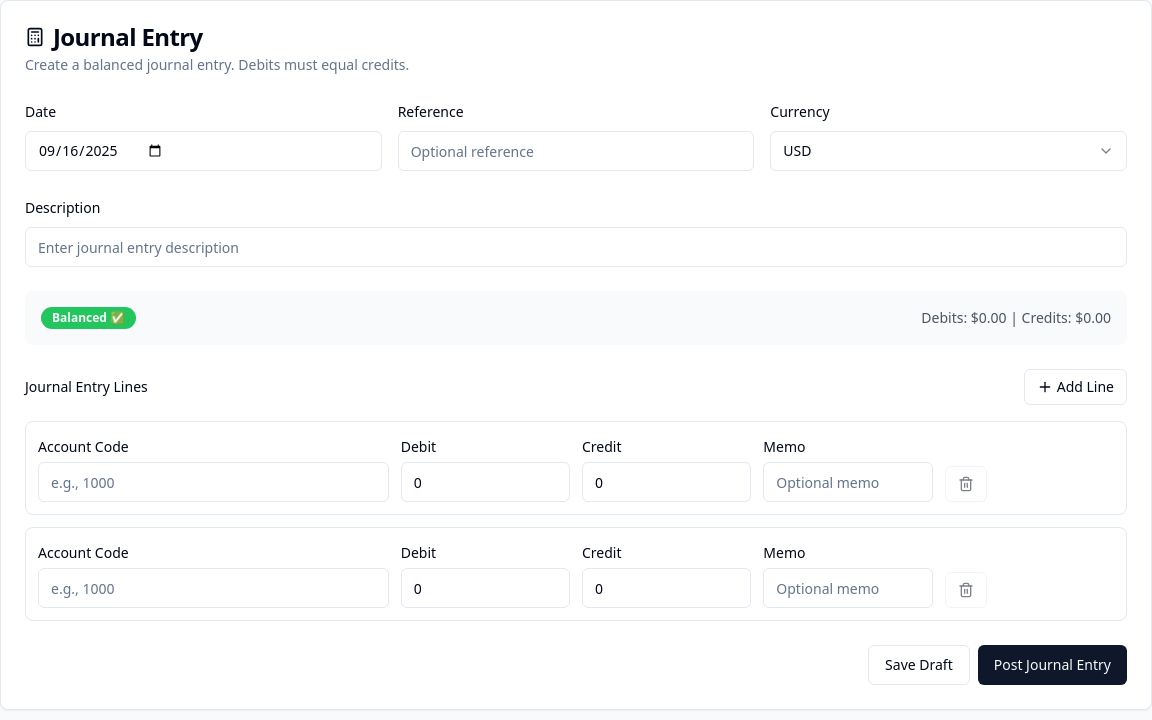
JEForm › validates required fields
This screenshot has width=1152, height=720.
# Clear the date field and try to submit
Clear the date field labelled "Date" at (203, 151), box [25, 131, 382, 171]
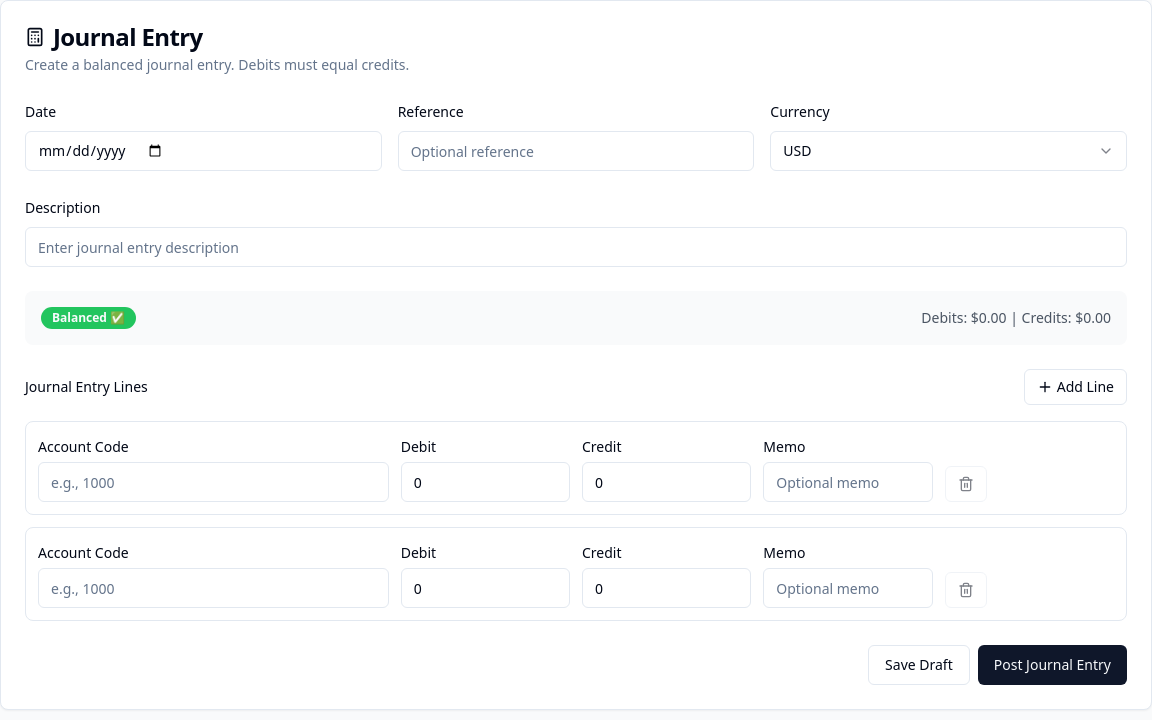
# Try to submit without filling required fields
Click the button "Post Journal Entry" at (1052, 665), box [978, 645, 1127, 685]
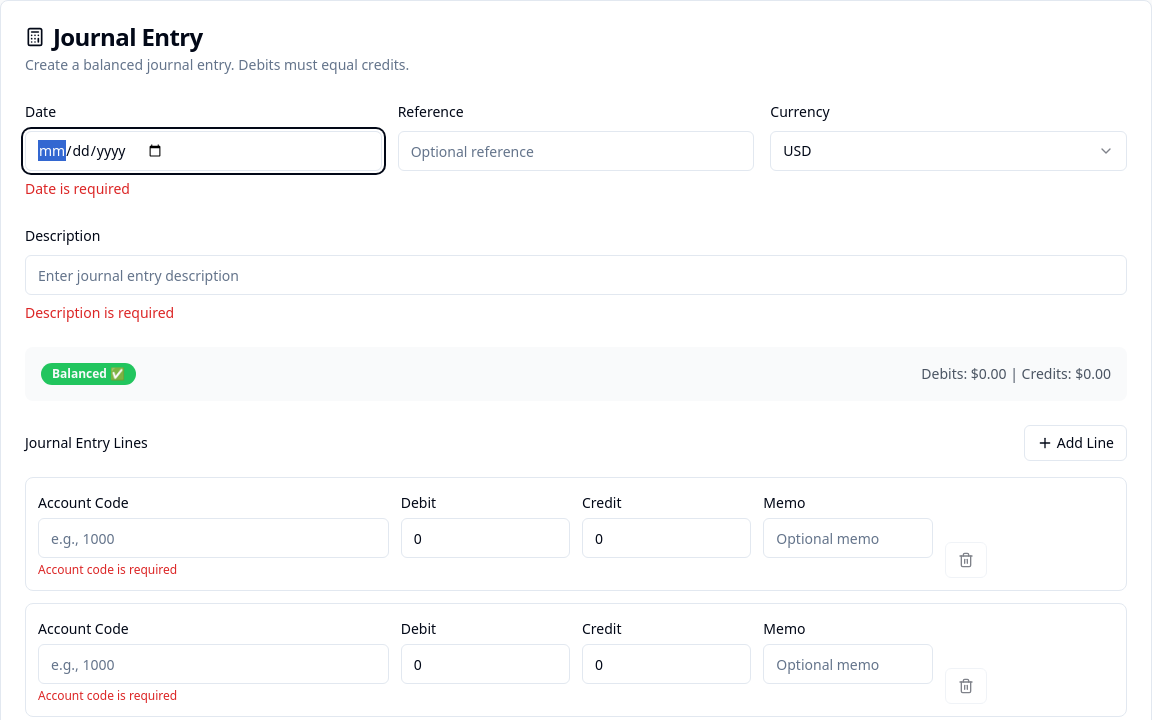
Expected: the text "Date is required" is shown, [25, 179, 130, 198]
